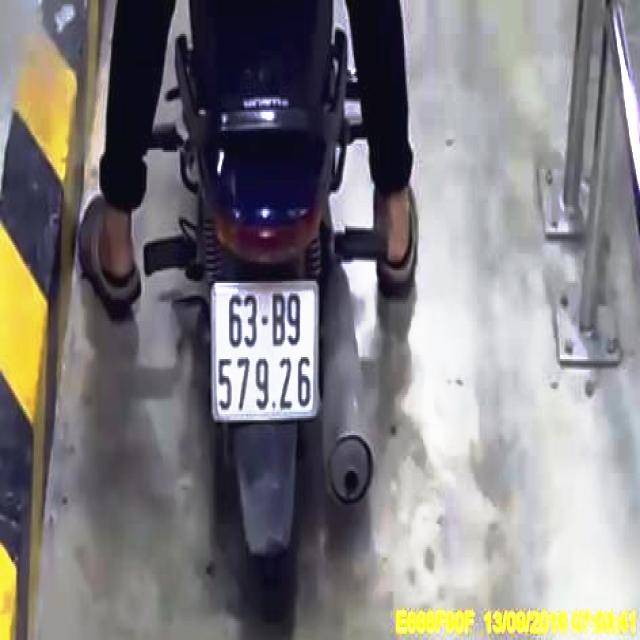license_plate: (213, 283, 317, 422)
